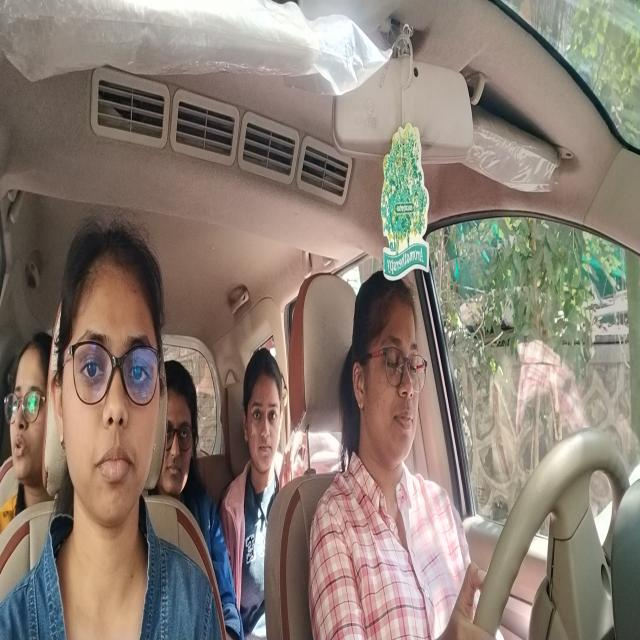drowsy: (344, 270, 425, 474)
person: (53, 217, 159, 548), (8, 332, 49, 486), (163, 354, 205, 502), (240, 348, 284, 479)
